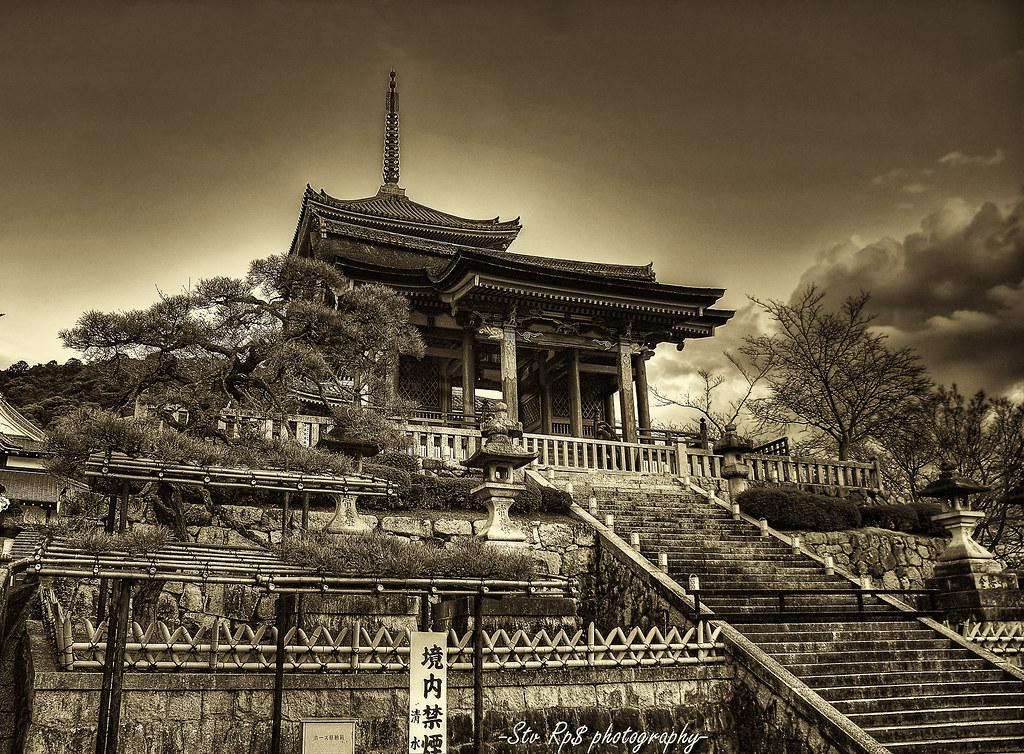temple: (2, 66, 1022, 752), (270, 66, 738, 477)
